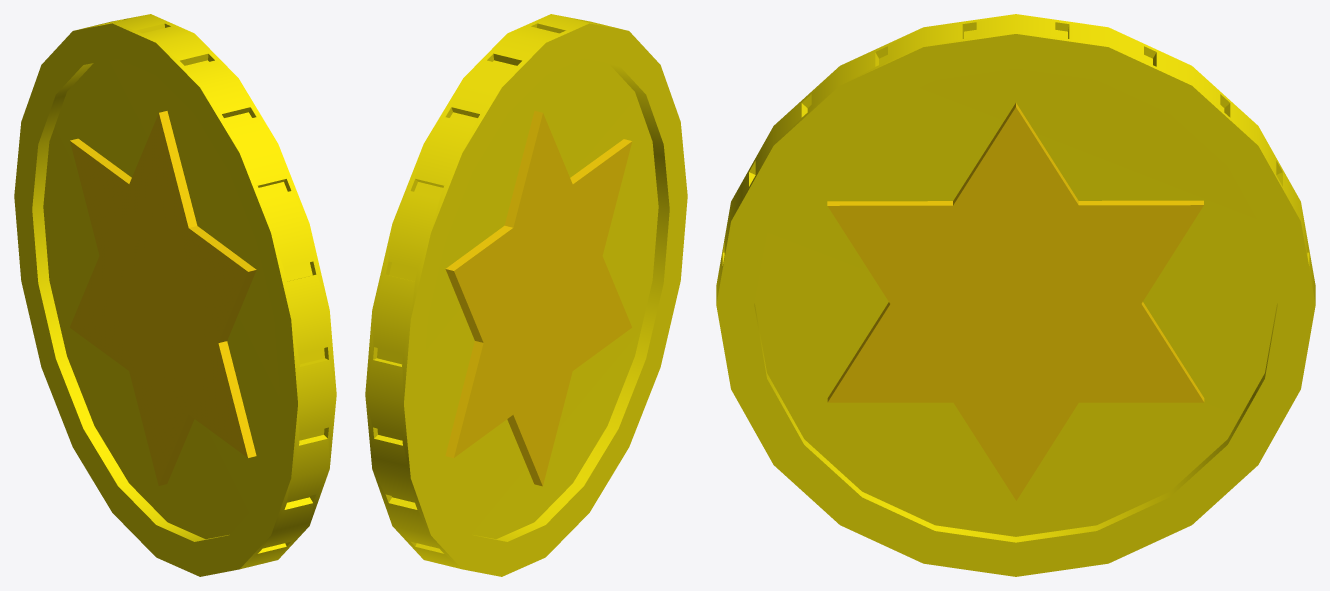
File: Coin.fbx
The picture shows the model from 3 angles, left to right: view 1: azimuth 30°, elevation 25°; view 2: azimuth 150°, elevation 25°; view 3: azimuth 270°, elevation 25°; orthographic projection. The views are drawn at different scales.
Parts seen in each view (by area): view 1: pCylinder1, pCylinder2, pCylinder3; view 2: pCylinder1, pCylinder2, pCylinder3; view 3: pCylinder1, pCylinder2, pCylinder3.
Part boxes in pixels (x1=…): pCylinder1: x1=14, y1=14, x2=336, y2=576; pCylinder2: x1=70, y1=111, x2=256, y2=457; pCylinder3: x1=70, y1=138, x2=256, y2=485; pCylinder1: x1=365, y1=14, x2=687, y2=576; pCylinder2: x1=445, y1=111, x2=631, y2=457; pCylinder3: x1=445, y1=139, x2=632, y2=486; pCylinder1: x1=716, y1=14, x2=1315, y2=576; pCylinder2: x1=827, y1=103, x2=1204, y2=402; pCylinder3: x1=827, y1=200, x2=1203, y2=500.
Bounding box in the file's own units: 0.2249 × 2.86 × 2.86.
